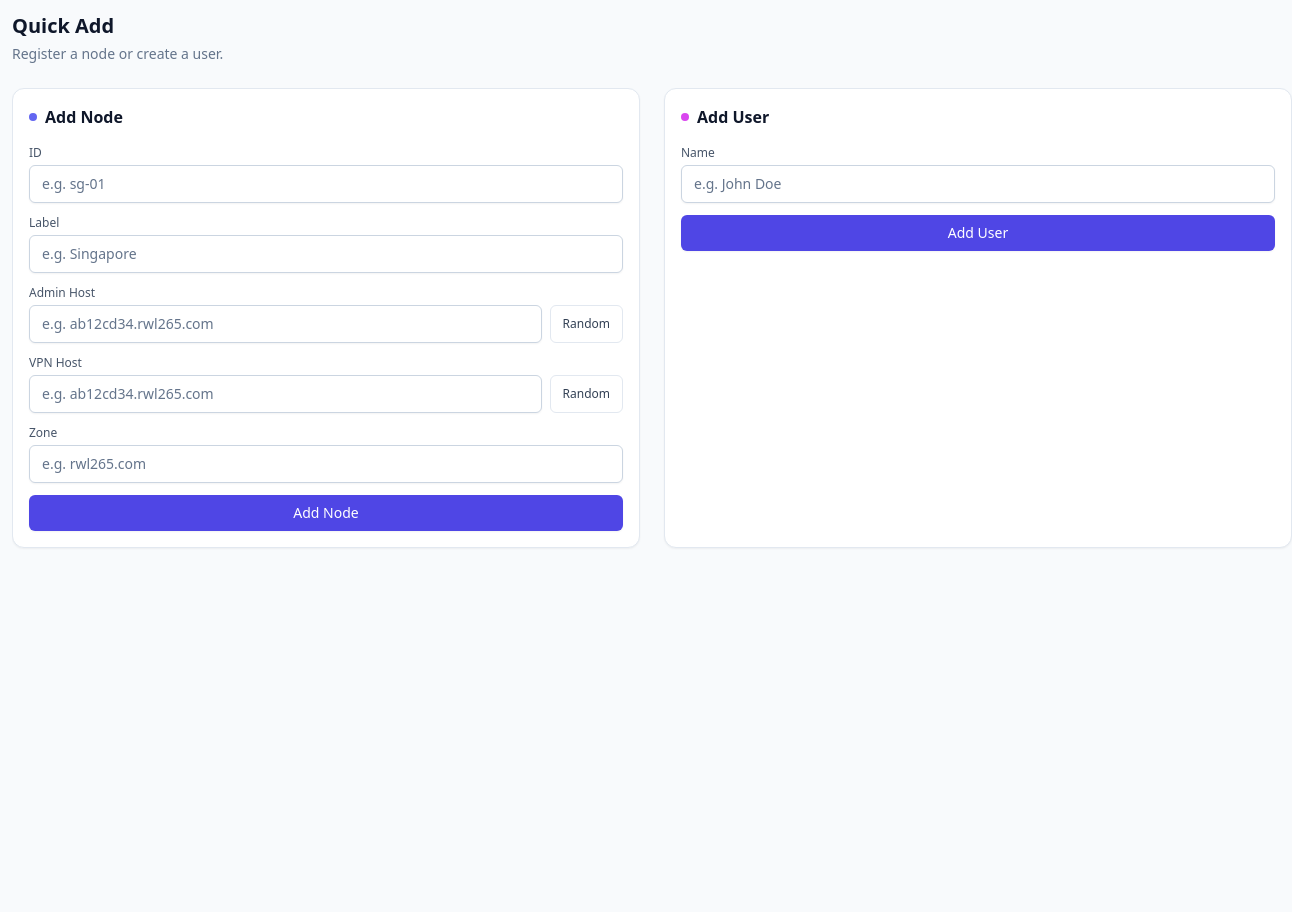
Test: add user shows validation toast when name is empty
Click the button "Add User": (978, 233) [681,215,1275,251]
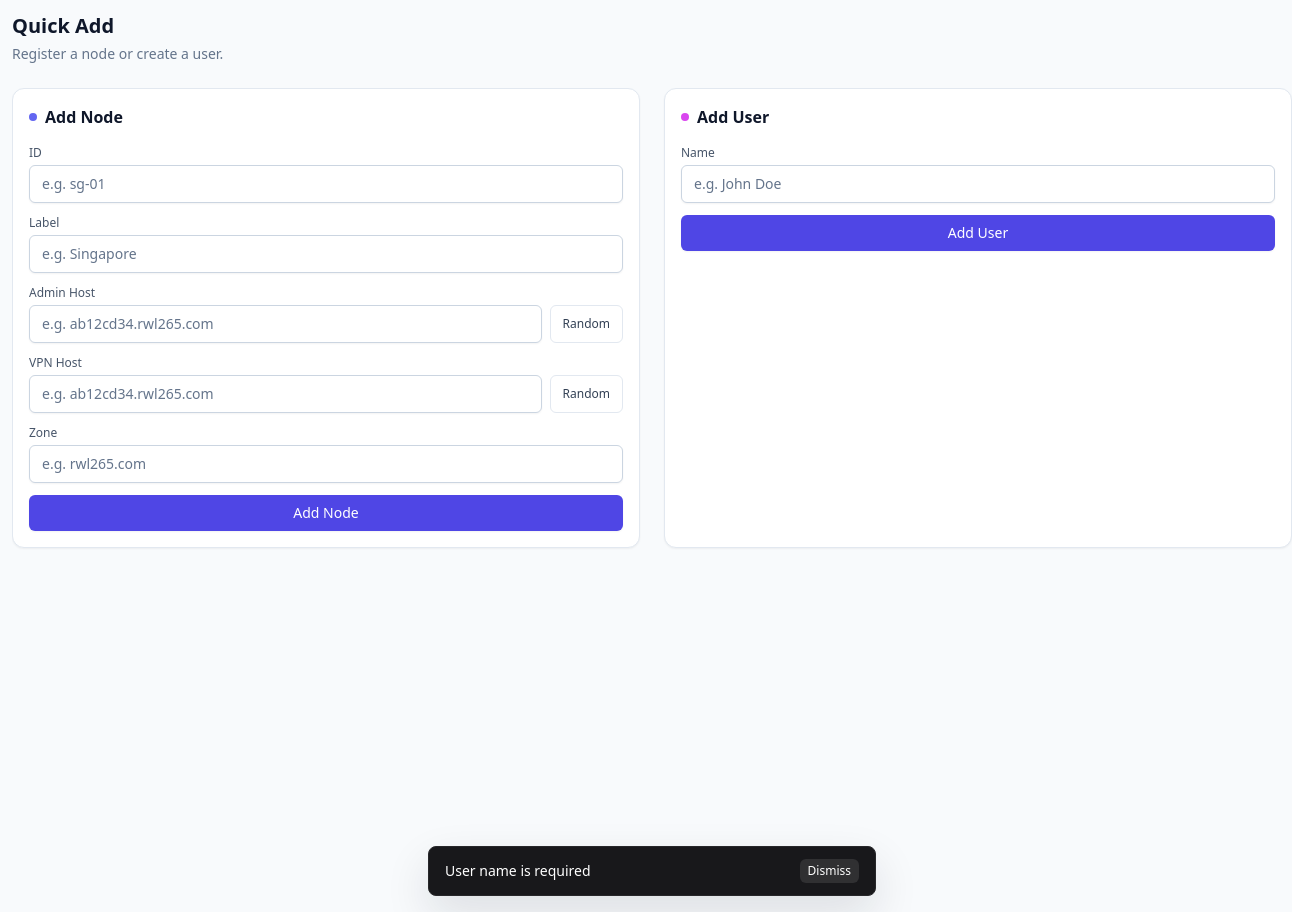
Expected: the text "User name is required" is shown, [445,861,591,881]
